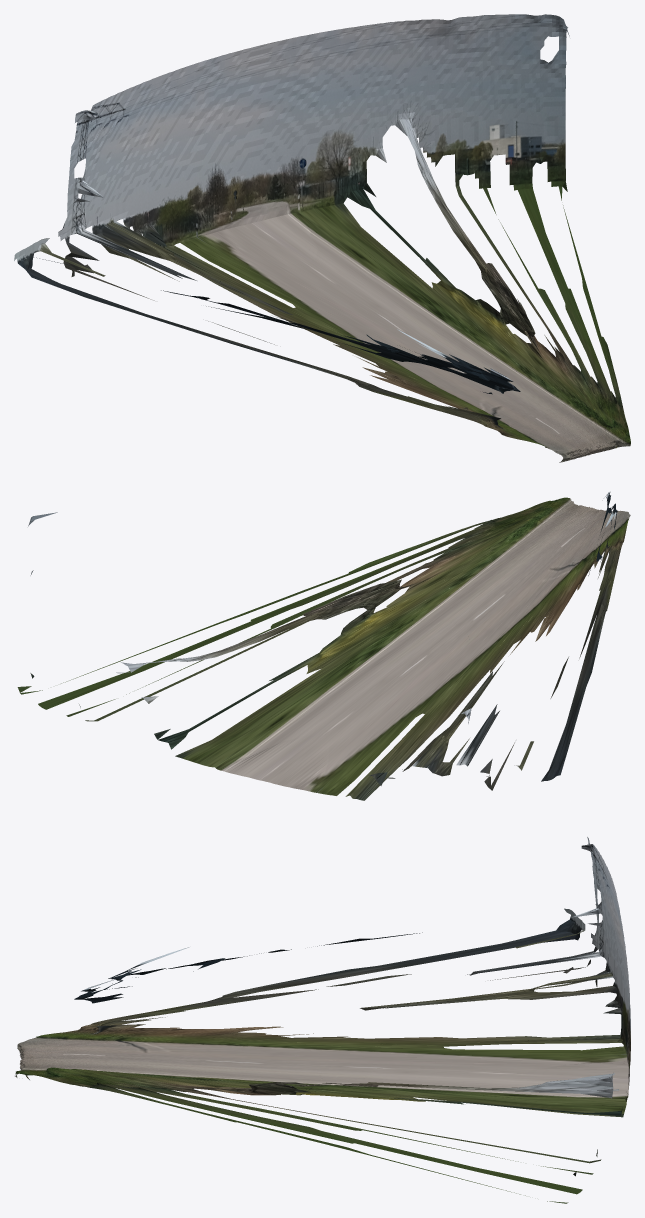
3 renders of one model, top to bottom at view 1: azimuth 30°, elevation 25°; view 2: azimuth 150°, elevation 25°; view 3: azimuth 270°, elevation 25°, orthographic. The views are drawn at different scales.
Visible parts, largest first — view 1: defaultobject; view 2: defaultobject; view 3: defaultobject.
Boxes of the visible parts, <box> form: defaultobject: <box>14,14,630,462</box>; defaultobject: <box>17,491,630,800</box>; defaultobject: <box>15,837,630,1203</box>.
Bounding box in the file's own units: 41.08 × 13.42 × 44.47.
Materials: 1 (1 with a texture image).
